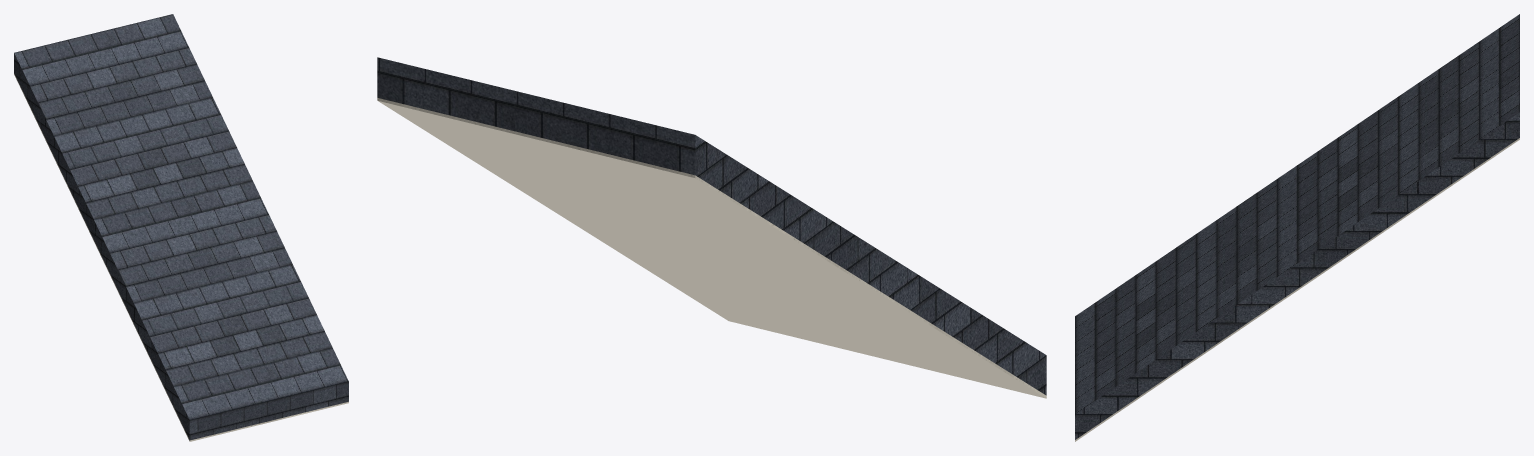
The model's file is wing_slope_end_l.glb.
3 views of the same model, side by side, from view 1: azimuth 30°, elevation 25°; view 2: azimuth 150°, elevation 25°; view 3: azimuth 270°, elevation 25° (orthographic). The views are drawn at different scales.
Parts seen in each view (by area): view 1: wing_slope_end_l_shingle, wing_slope_end_l_plaster; view 2: wing_slope_end_l_plaster, wing_slope_end_l_shingle; view 3: wing_slope_end_l_shingle, wing_slope_end_l_plaster.
Boxes of the visible parts, box(x1,y1,x2,y2) form: wing_slope_end_l_shingle: box(14, 14, 348, 440); wing_slope_end_l_plaster: box(14, 73, 348, 441); wing_slope_end_l_plaster: box(377, 98, 1046, 398); wing_slope_end_l_shingle: box(377, 57, 1046, 395); wing_slope_end_l_shingle: box(1075, 14, 1519, 439); wing_slope_end_l_plaster: box(1075, 138, 1519, 441).
Bounding box in the file's own units: 2.3 × 3.6 × 4.4.
Materials: 2 (2 with a texture image).
